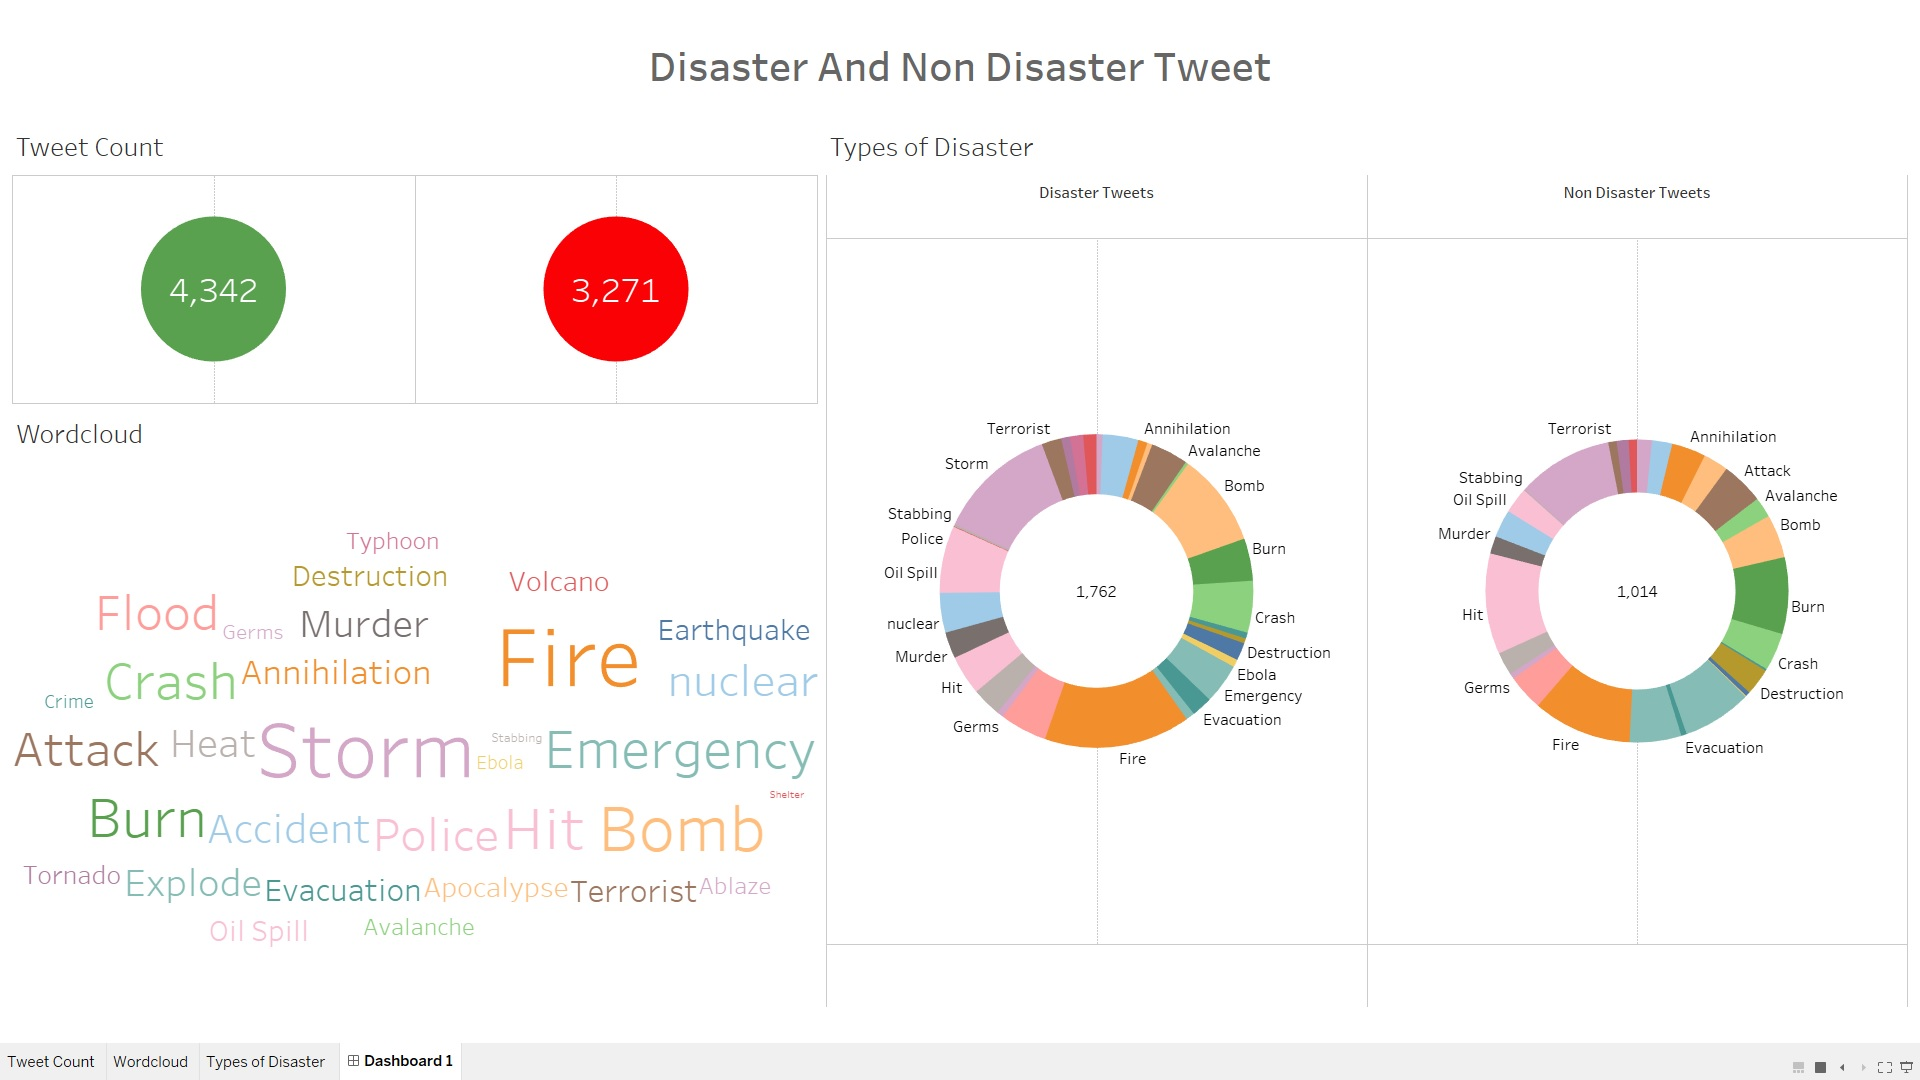

Layout of this report page (visuals, bound fields, positions):
{"tool":"tableau","page":{"name":"Dashboard 1","canvas":[1000,1000],"units":"permille","ordinal":0},"visuals":[{"type":"text","box":[4.8,9.3,990.3,90.6]},{"type":"worksheet","title":"Tweet Count","mark":"Pie","cols":["Calculation_961237077914701840","Calculation_961237077914677262"],"box":[4.8,99.9,495.2,333.3]},{"type":"worksheet","title":"Different Types of disaster tweets","mark":"Pie","cols":["Calculation_961237077901504522","Calculation_961237077901484040"],"box":[500,99.9,495.2,890.8]},{"type":"worksheet","title":"Wordcloud","mark":"Text","box":[4.8,433.2,495.2,557.5]}]}

Visuals, with their boxes on the dashboard's canvas, which has no fixed pixel size, in thousandths of its width and height (x1, y1, x2, y2). These are canvas units, not pixel positions in the 1920x1080 screenshot, which may show the page scaled, cropped or inside an application window:
text: detection(5, 9, 995, 100)
"Tweet Count" worksheet (Pie marks): detection(5, 100, 500, 433)
"Different Types of disaster tweets" worksheet (Pie marks): detection(500, 100, 995, 991)
"Wordcloud" worksheet (Text marks): detection(5, 433, 500, 991)
